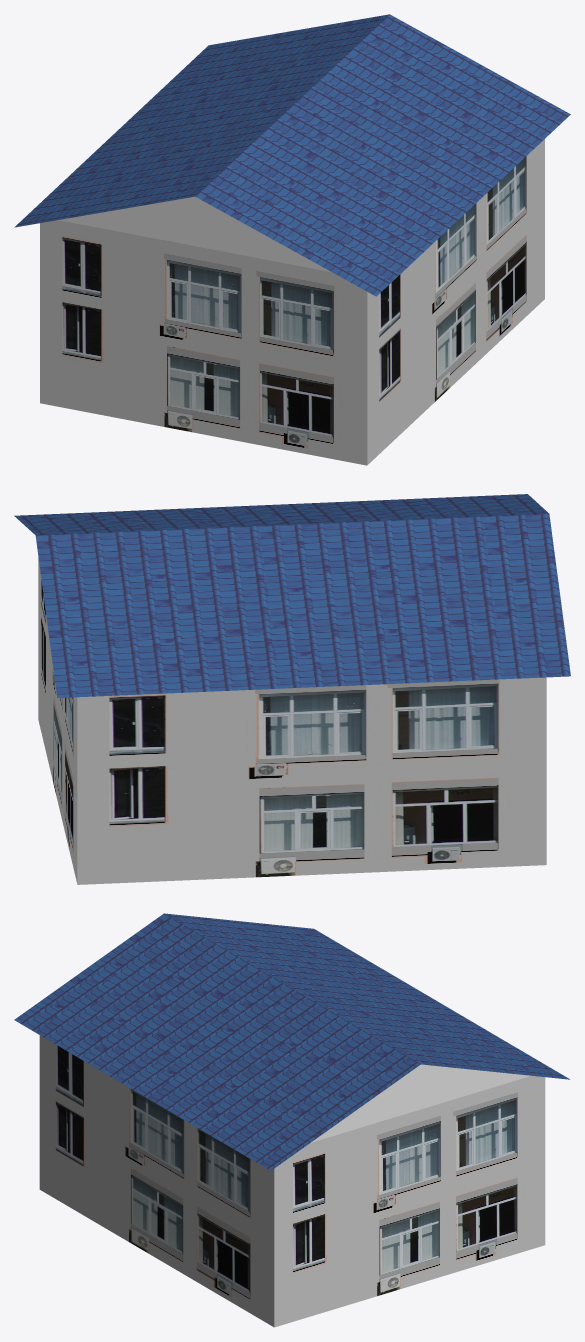
3 views of the same model, one above another, from view 1: azimuth 30°, elevation 25°; view 2: azimuth 150°, elevation 25°; view 3: azimuth 270°, elevation 25° (orthographic). The views are drawn at different scales.
Visible parts, largest first — view 1: CityEngineMaterial_9_m, CityEngineMaterial_10_m, CityEngineMaterial_3_m; view 2: CityEngineMaterial_10_m, CityEngineMaterial_9_m; view 3: CityEngineMaterial_9_m, CityEngineMaterial_10_m, CityEngineMaterial_3_m.
Boxes of the visible parts, <box> form: CityEngineMaterial_9_m: <box>40,139,544,465</box>; CityEngineMaterial_10_m: <box>14,14,570,296</box>; CityEngineMaterial_3_m: <box>58,196,331,272</box>; CityEngineMaterial_10_m: <box>14,494,570,697</box>; CityEngineMaterial_9_m: <box>38,557,546,884</box>; CityEngineMaterial_9_m: <box>39,1035,545,1327</box>; CityEngineMaterial_10_m: <box>14,913,569,1170</box>; CityEngineMaterial_3_m: <box>311,1064,531,1142</box>.
Bounding box in the file's own units: 29.9 × 13.16 × 29.06.
